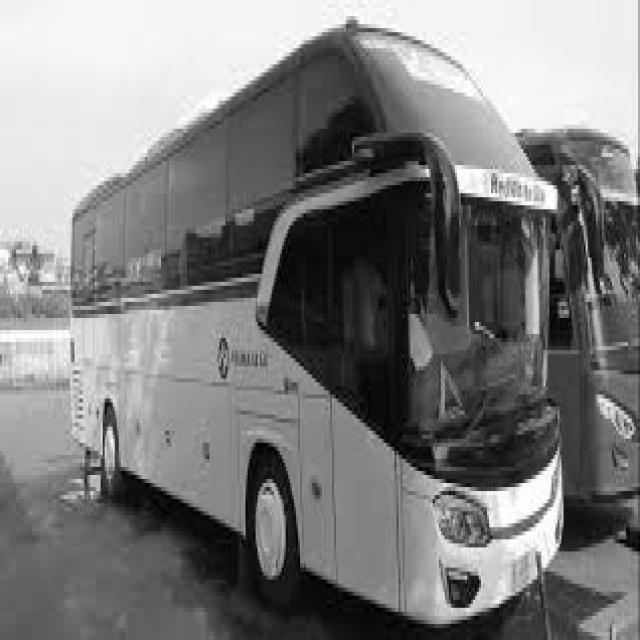Bus: (72, 20, 566, 626), (519, 133, 640, 503)
